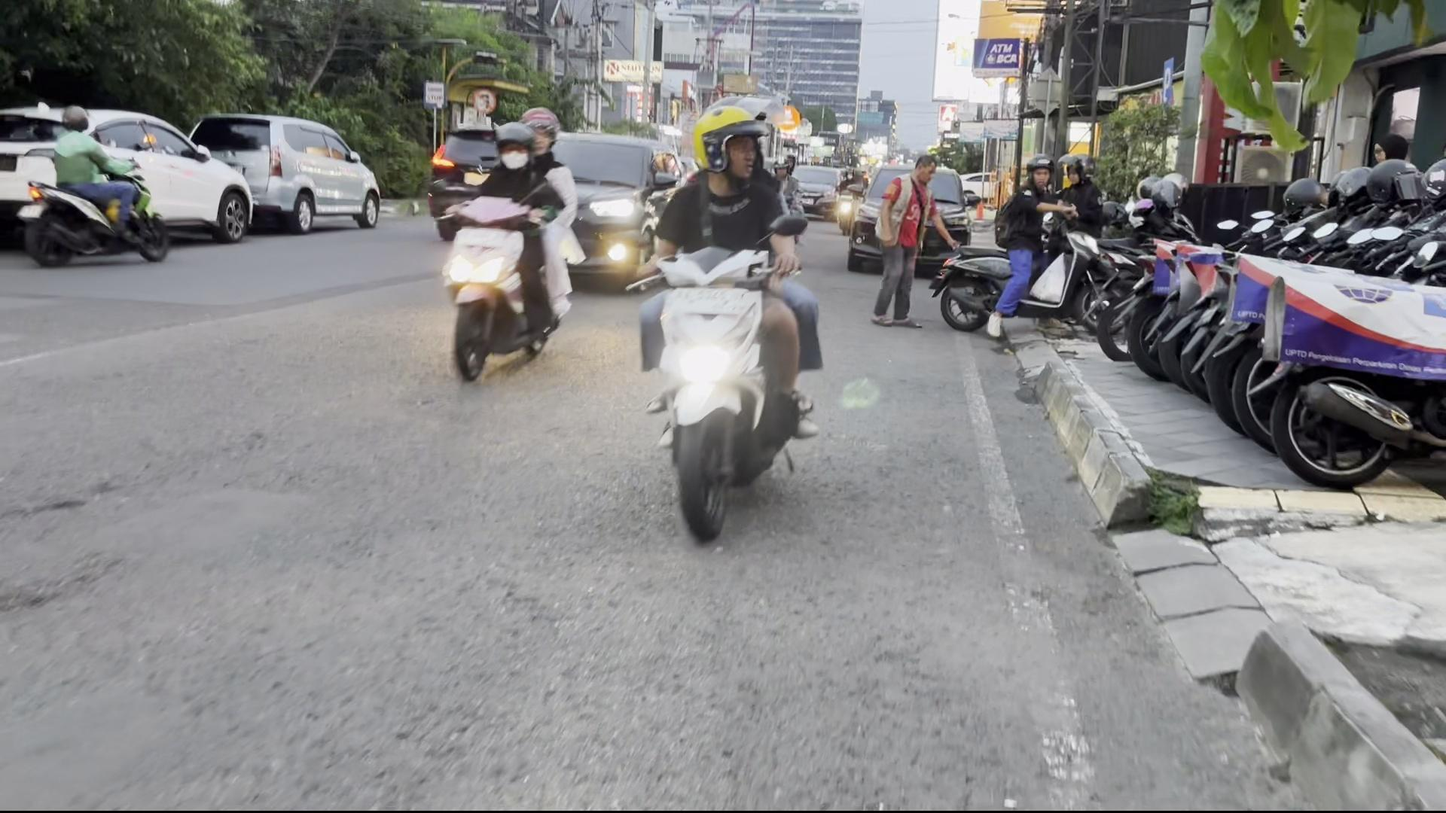helm: (689, 96, 781, 198)
riding: (628, 94, 828, 553)
